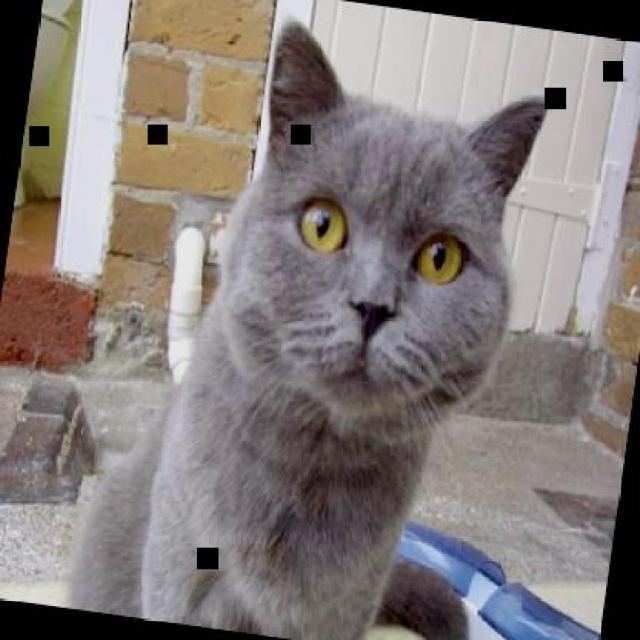cat: (54, 0, 557, 638)
